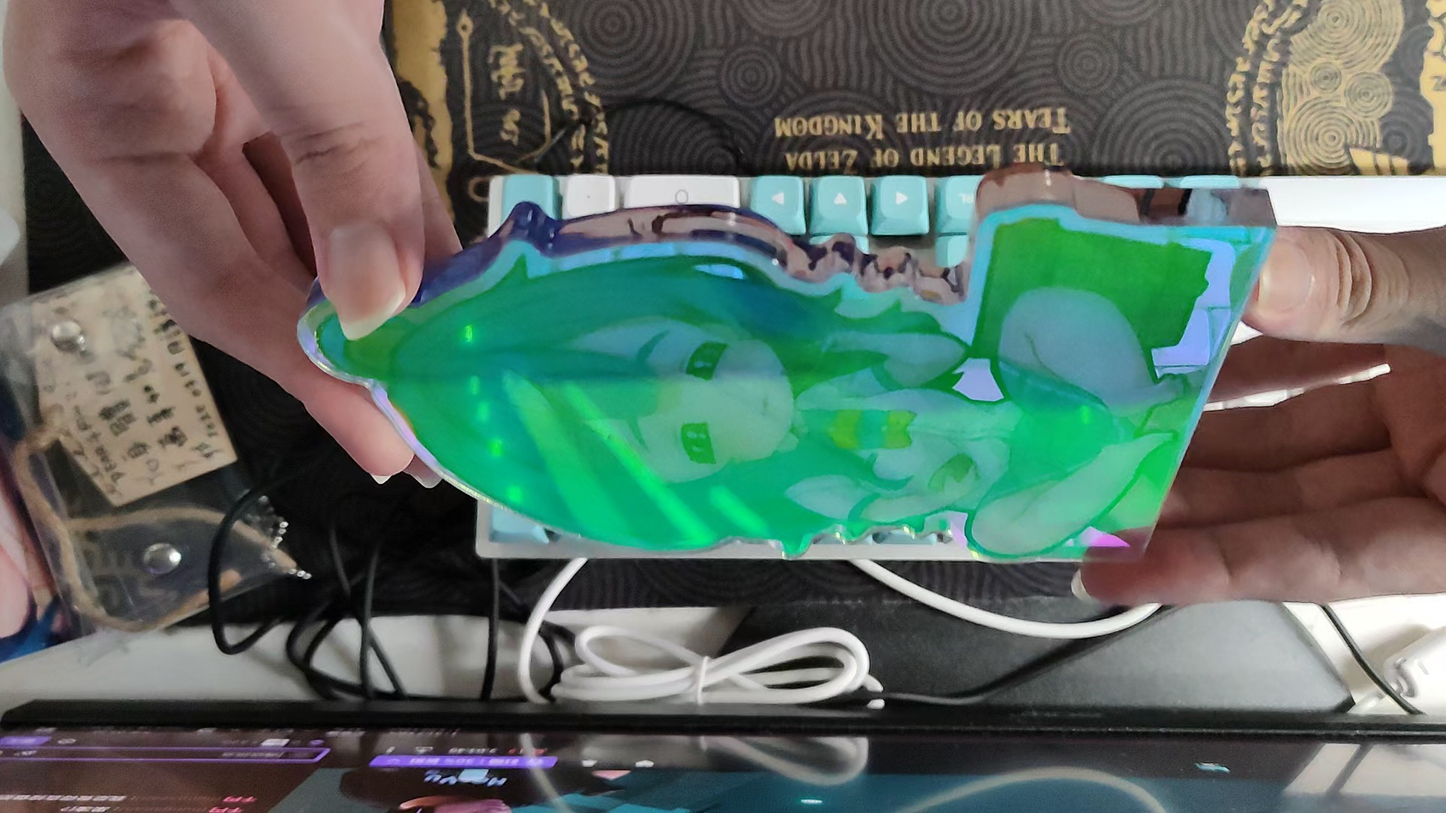Yanami-anna: (293, 162, 1278, 563)
